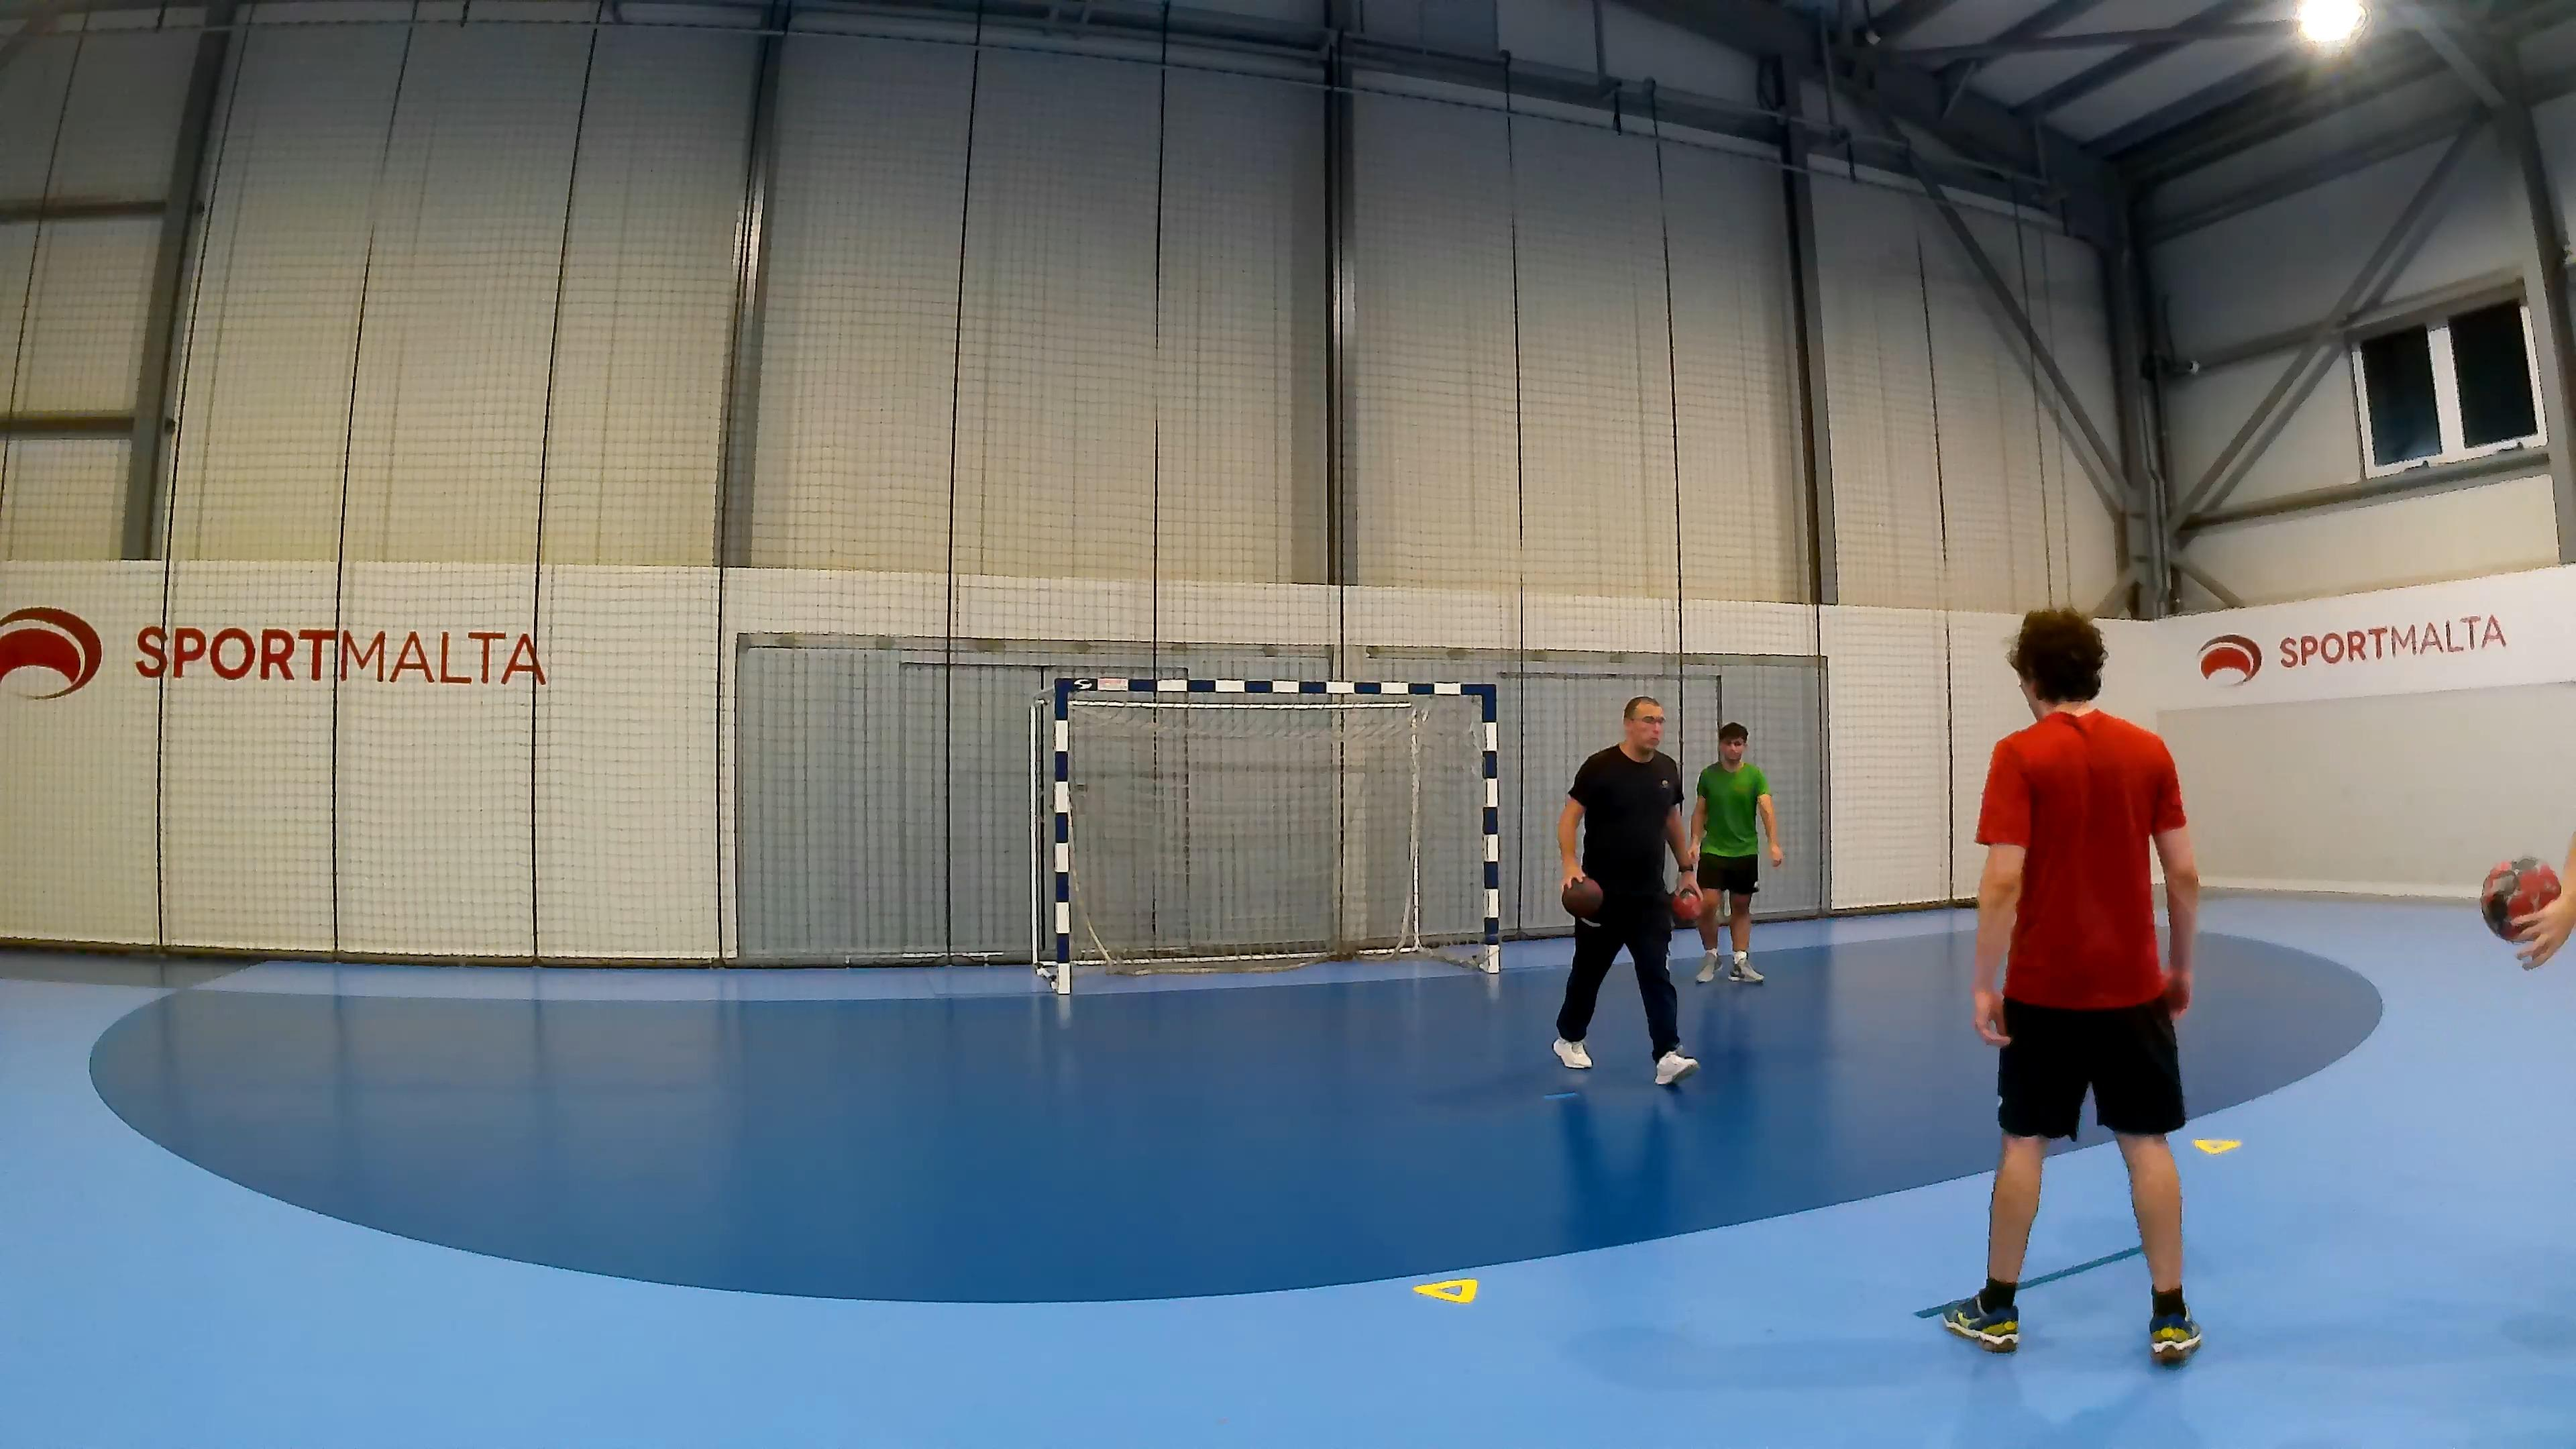handball: (2479, 855, 2562, 943), (1560, 876, 1601, 918), (1670, 885, 1702, 924)
